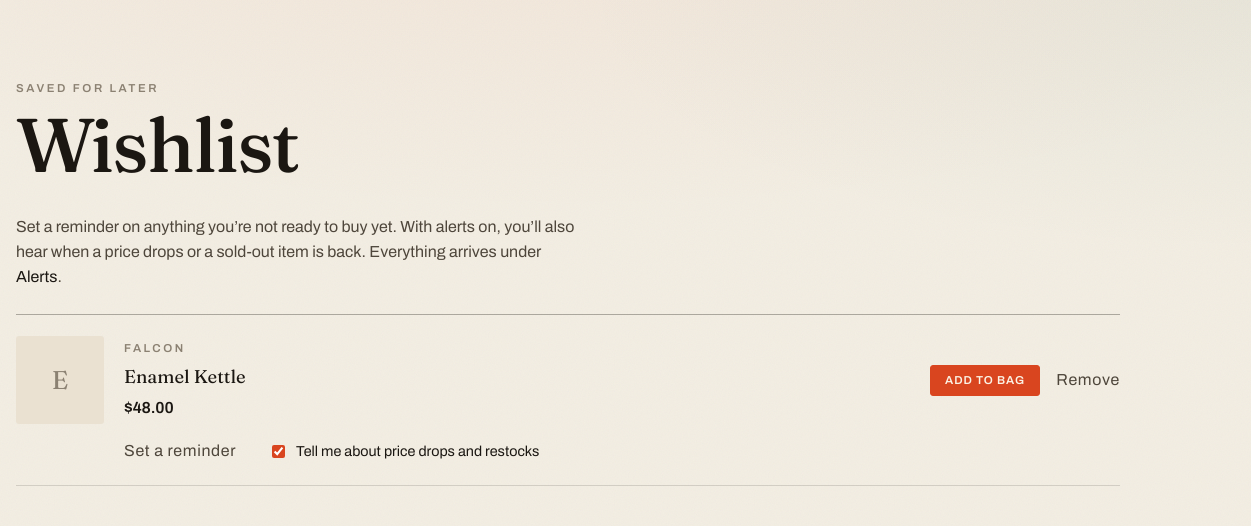
Test case: WishlistPage › sends the chosen local time as an ISO instant and shows the reminder
The width and height of the screenshot is (1251, 526).
Click the button "Set a reminder" at (180, 451), box [124,439,236,464]
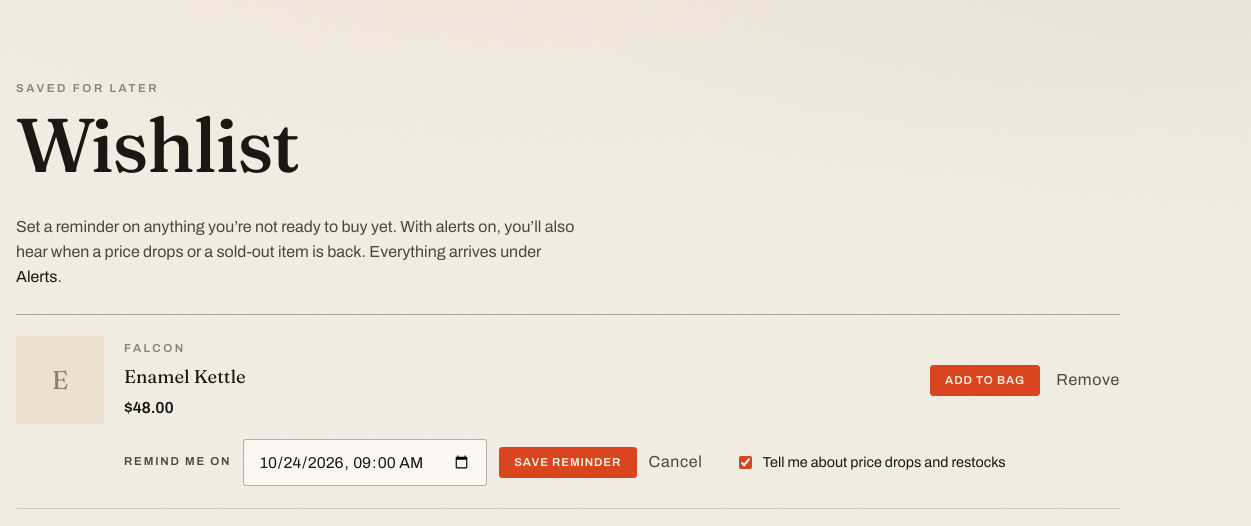
Replace the text in the field labelled "Remind me on" with "2030-01-15T09:30" at (365, 462), box [243,439,487,486]
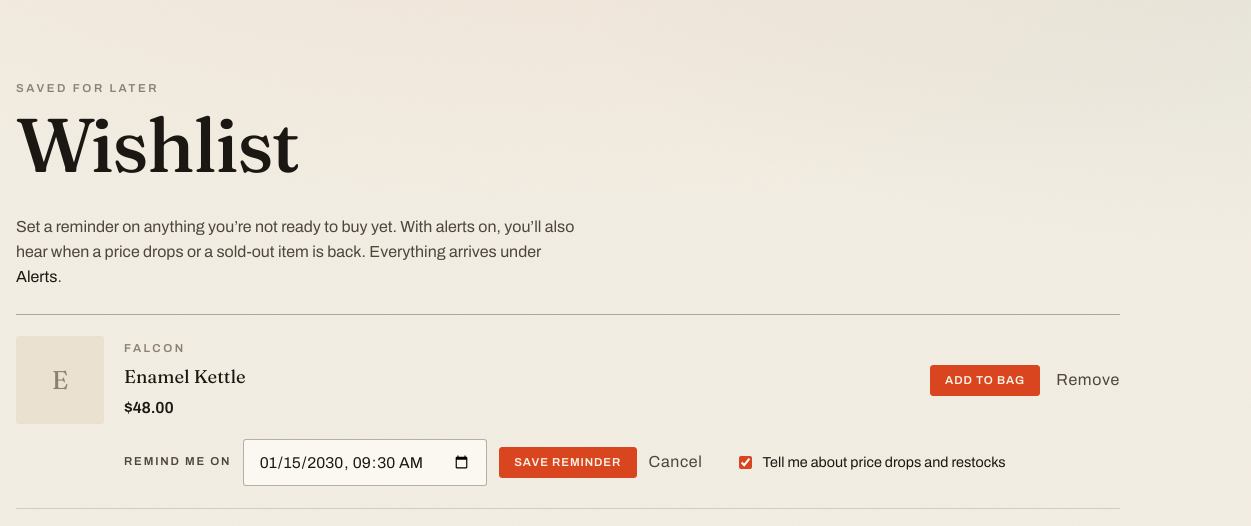
Click the button "Save reminder" at (568, 462), box [499,447,637,478]
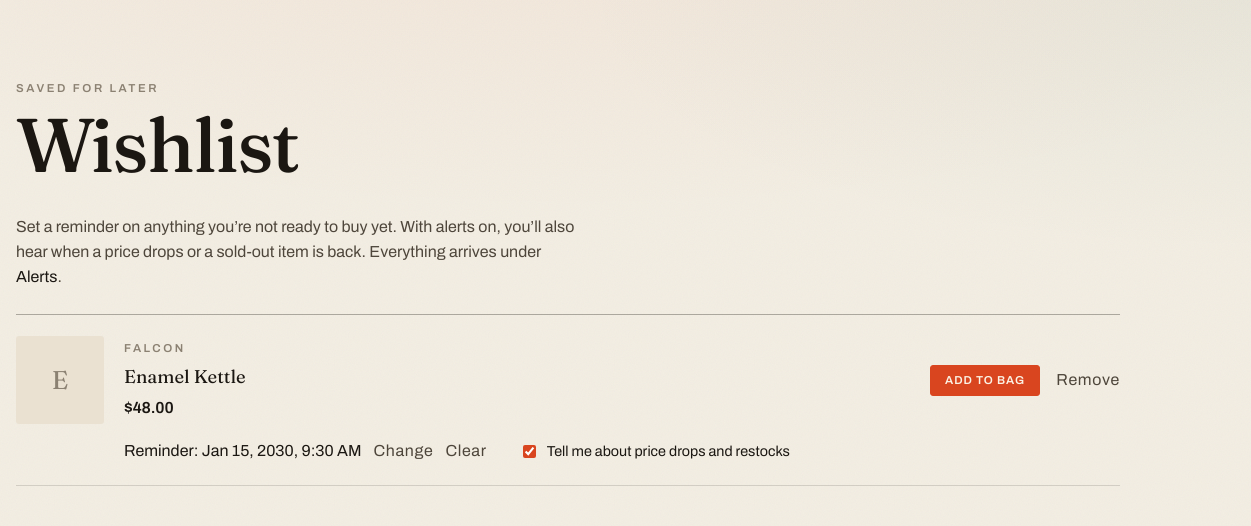
Result: the text "Reminder: Jan 15, 2030, 9:30 AM" is shown at [124,439,362,464]
